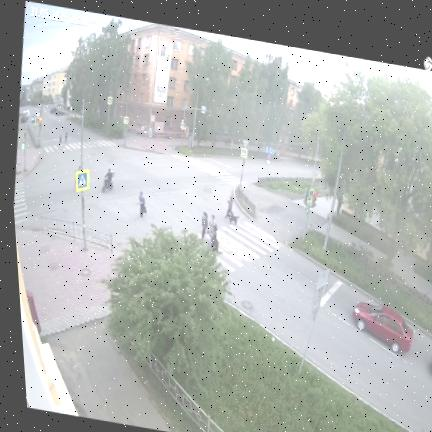car: (352, 302, 413, 353), (55, 111, 64, 116)
cyclist: (102, 169, 114, 192)
dog: (229, 214, 238, 224)
human: (139, 193, 146, 217), (202, 212, 208, 239), (226, 197, 234, 217), (209, 216, 216, 233), (212, 232, 218, 251), (205, 230, 210, 246), (64, 133, 68, 145), (58, 136, 61, 148)
lightPole: (322, 124, 347, 250), (191, 78, 209, 148), (107, 85, 112, 121)
pedestianCross: (217, 222, 280, 272), (172, 155, 240, 184), (44, 141, 115, 152), (14, 182, 28, 224)
pedestrianSign: (76, 116, 89, 251), (240, 141, 248, 188), (123, 104, 129, 145)
sign: (299, 269, 330, 374), (266, 147, 274, 166)
trafficLight: (303, 141, 319, 237), (22, 115, 27, 171), (181, 106, 188, 145), (36, 109, 42, 146)
